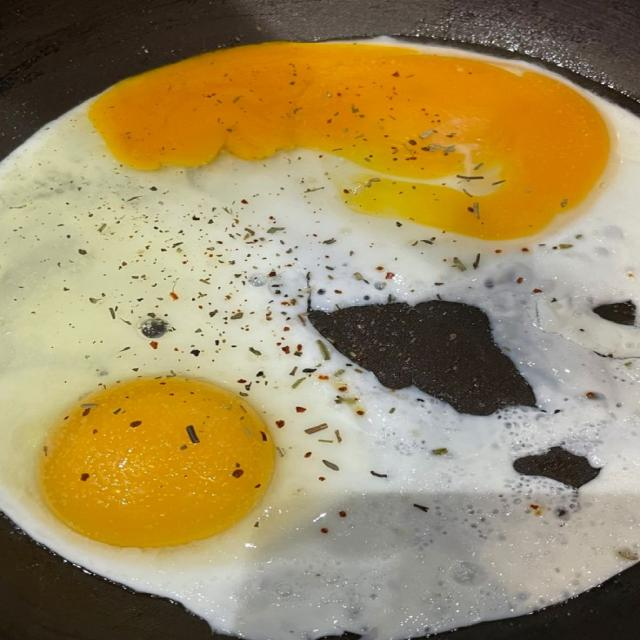fryed egg: (0, 42, 639, 639)
